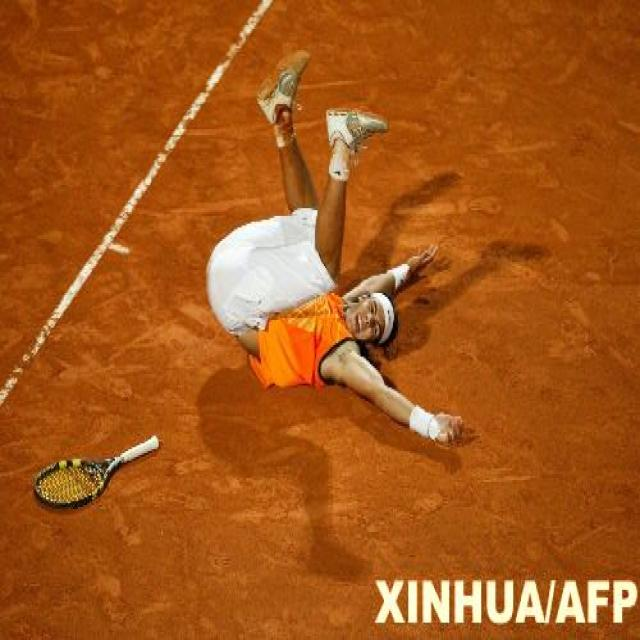down: (193, 44, 471, 461)
